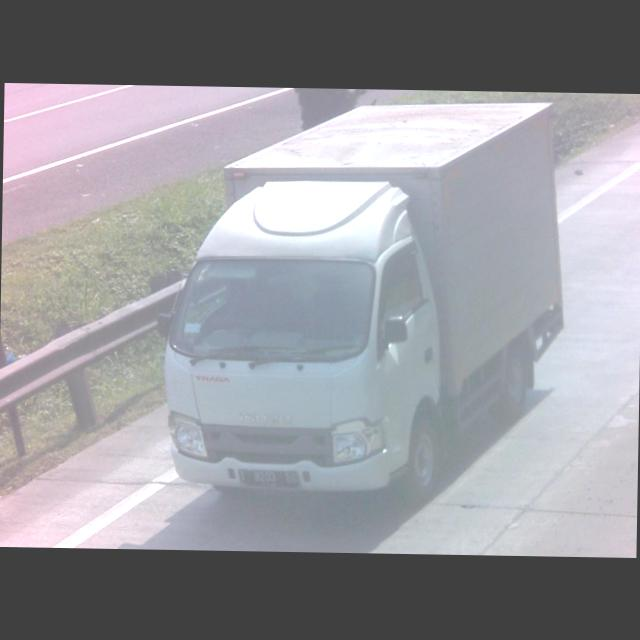plate: (234, 465, 302, 493)
